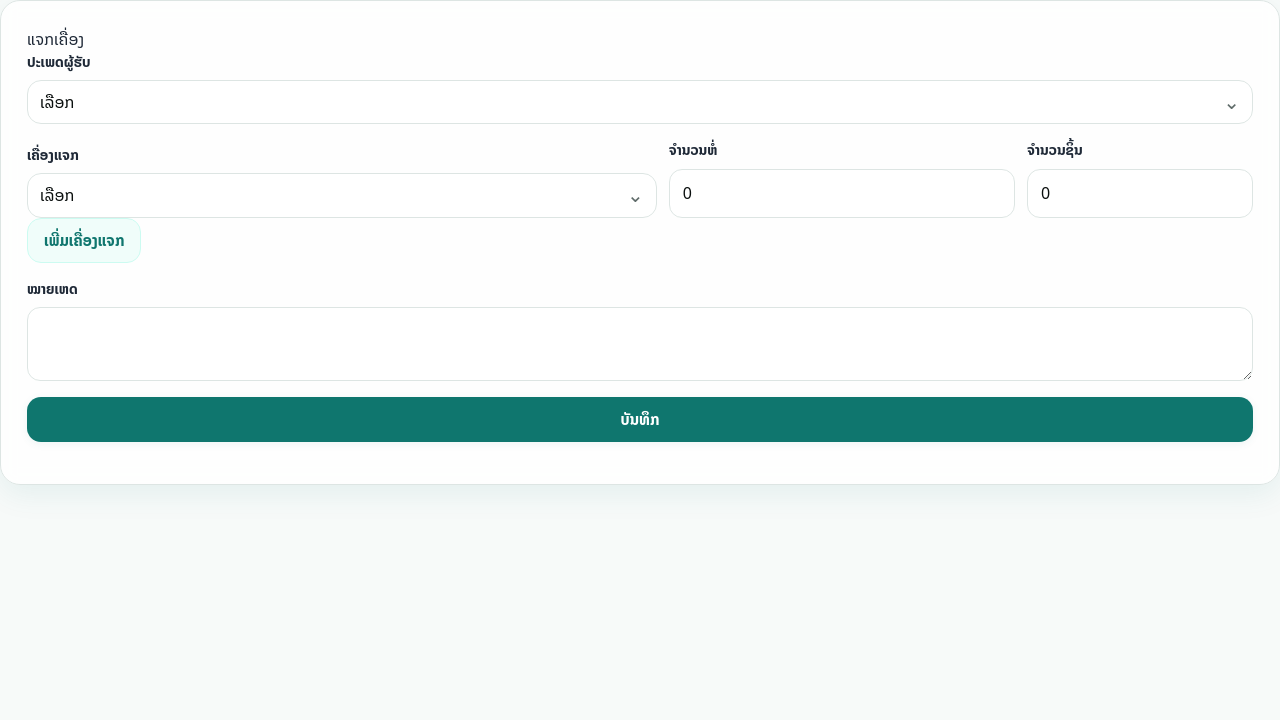
GiftDistributionForm › sorts gifts and displays current stock in packs and units
Click the dropdown named "ເຄື່ອງແຈກ": (57, 195) [27, 173, 657, 218]
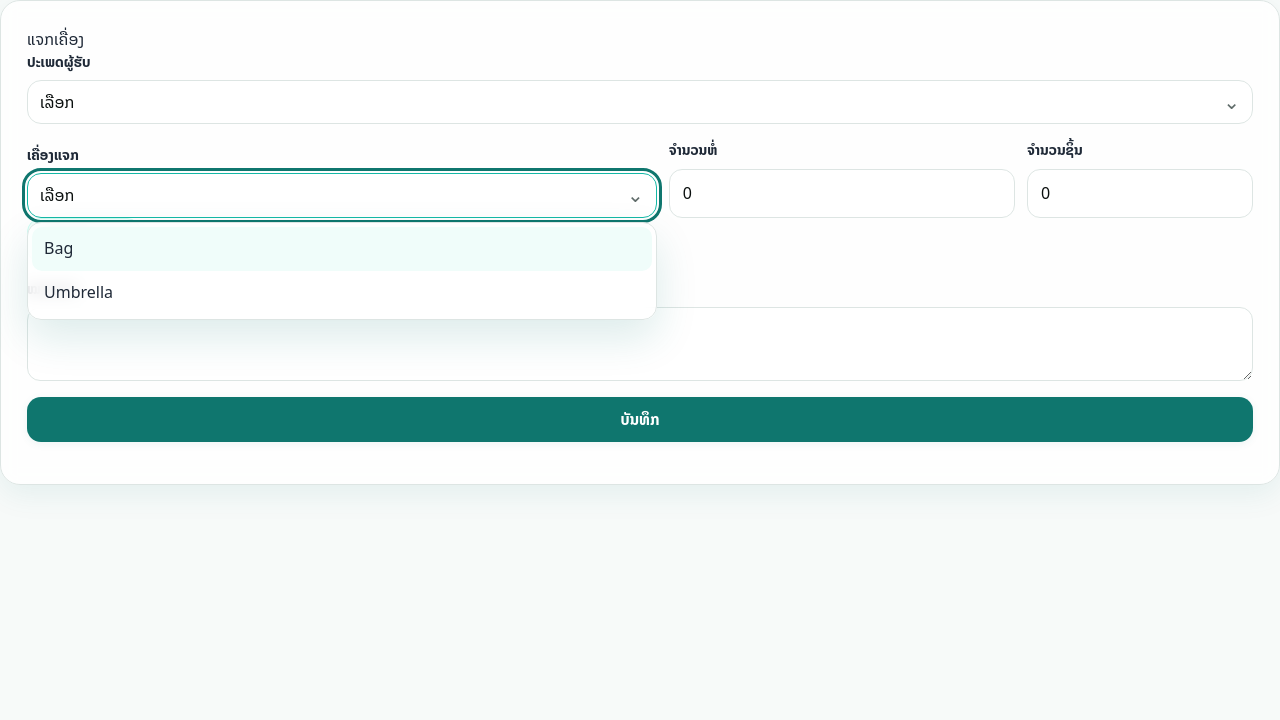
Click the option "Umbrella": (79, 292) [32, 271, 652, 315]
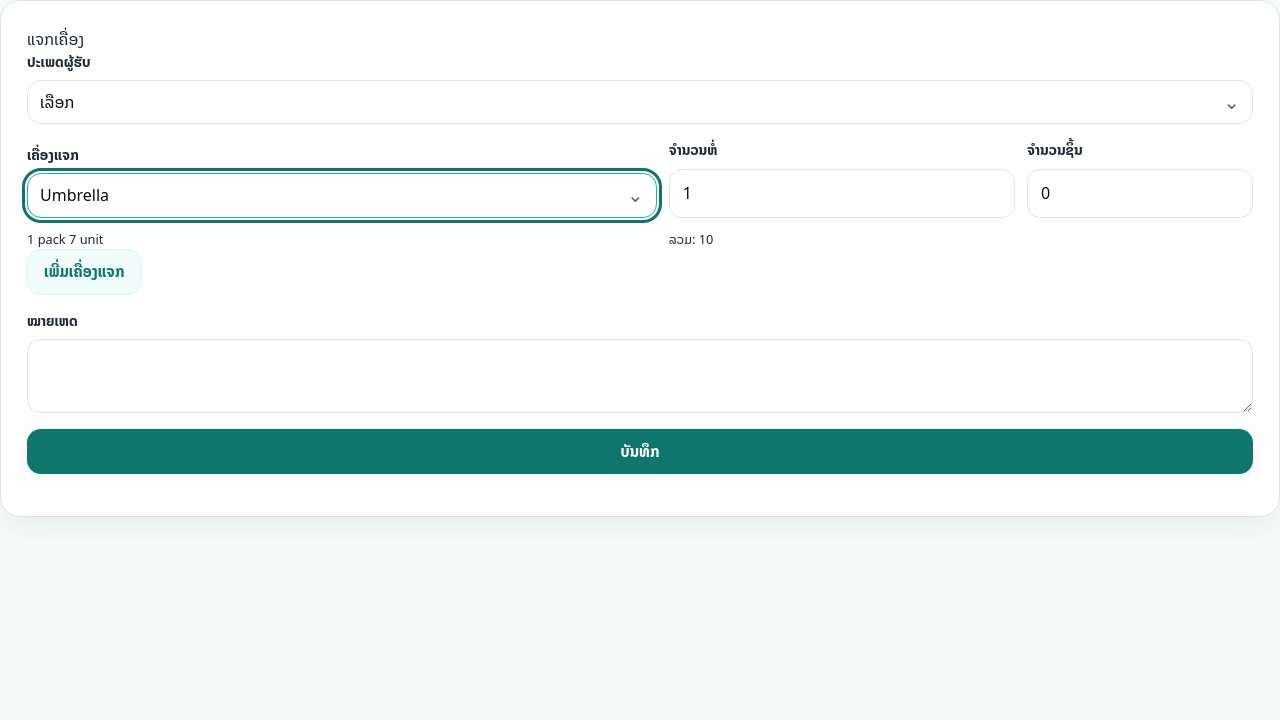
Expected: the text "1 pack 7 unit" is shown, [27, 229, 103, 250]
Expected: the text "ລວມ: 10" is shown, [669, 229, 714, 250]
